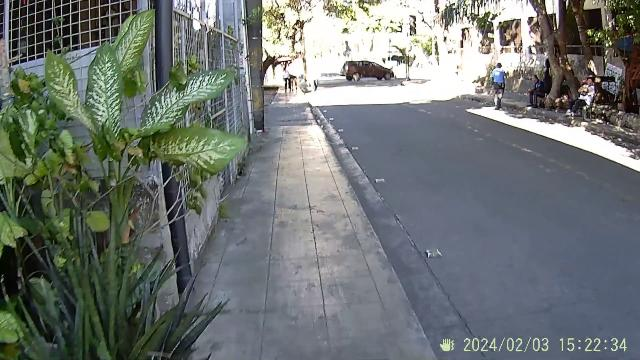utility_post: (247, 3, 269, 134)
